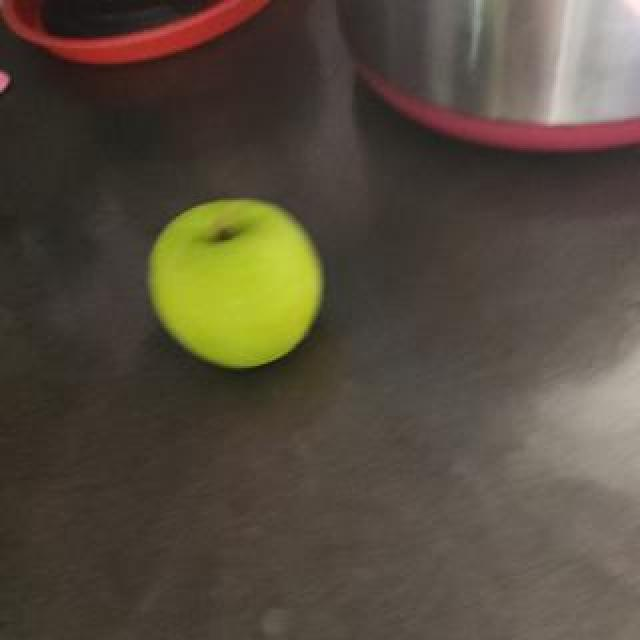Fresh Apple: (143, 196, 330, 376)
